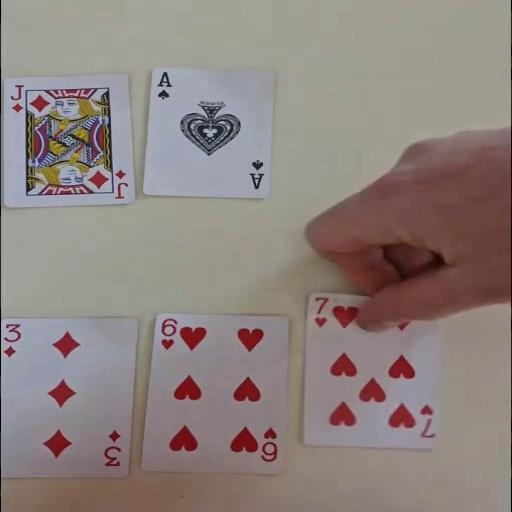3: (100, 428, 124, 468), (2, 322, 22, 358)
6: (257, 424, 279, 463), (158, 316, 180, 351)
7: (416, 402, 436, 439), (310, 294, 330, 328)
A: (246, 158, 266, 190), (154, 69, 173, 100)
J: (112, 167, 130, 199), (8, 83, 24, 114)
